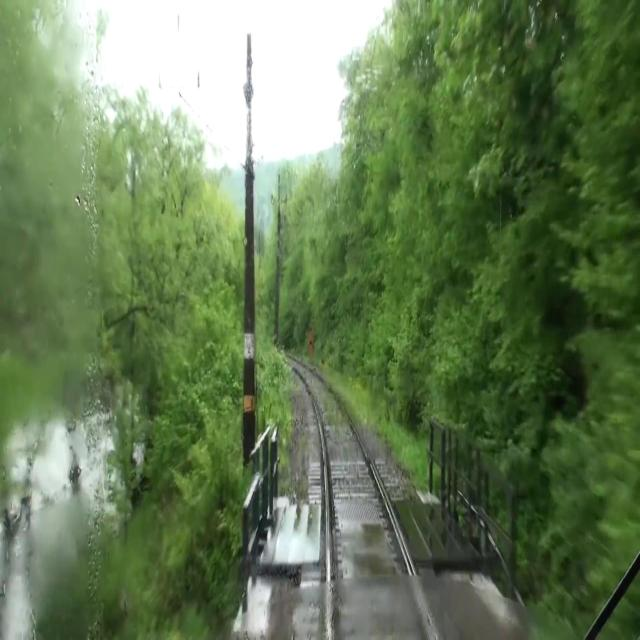rail-track: (285, 356, 433, 639)
